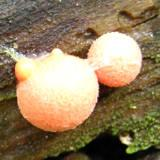poisonous_mushroom: (14, 47, 99, 132), (86, 30, 142, 87)
